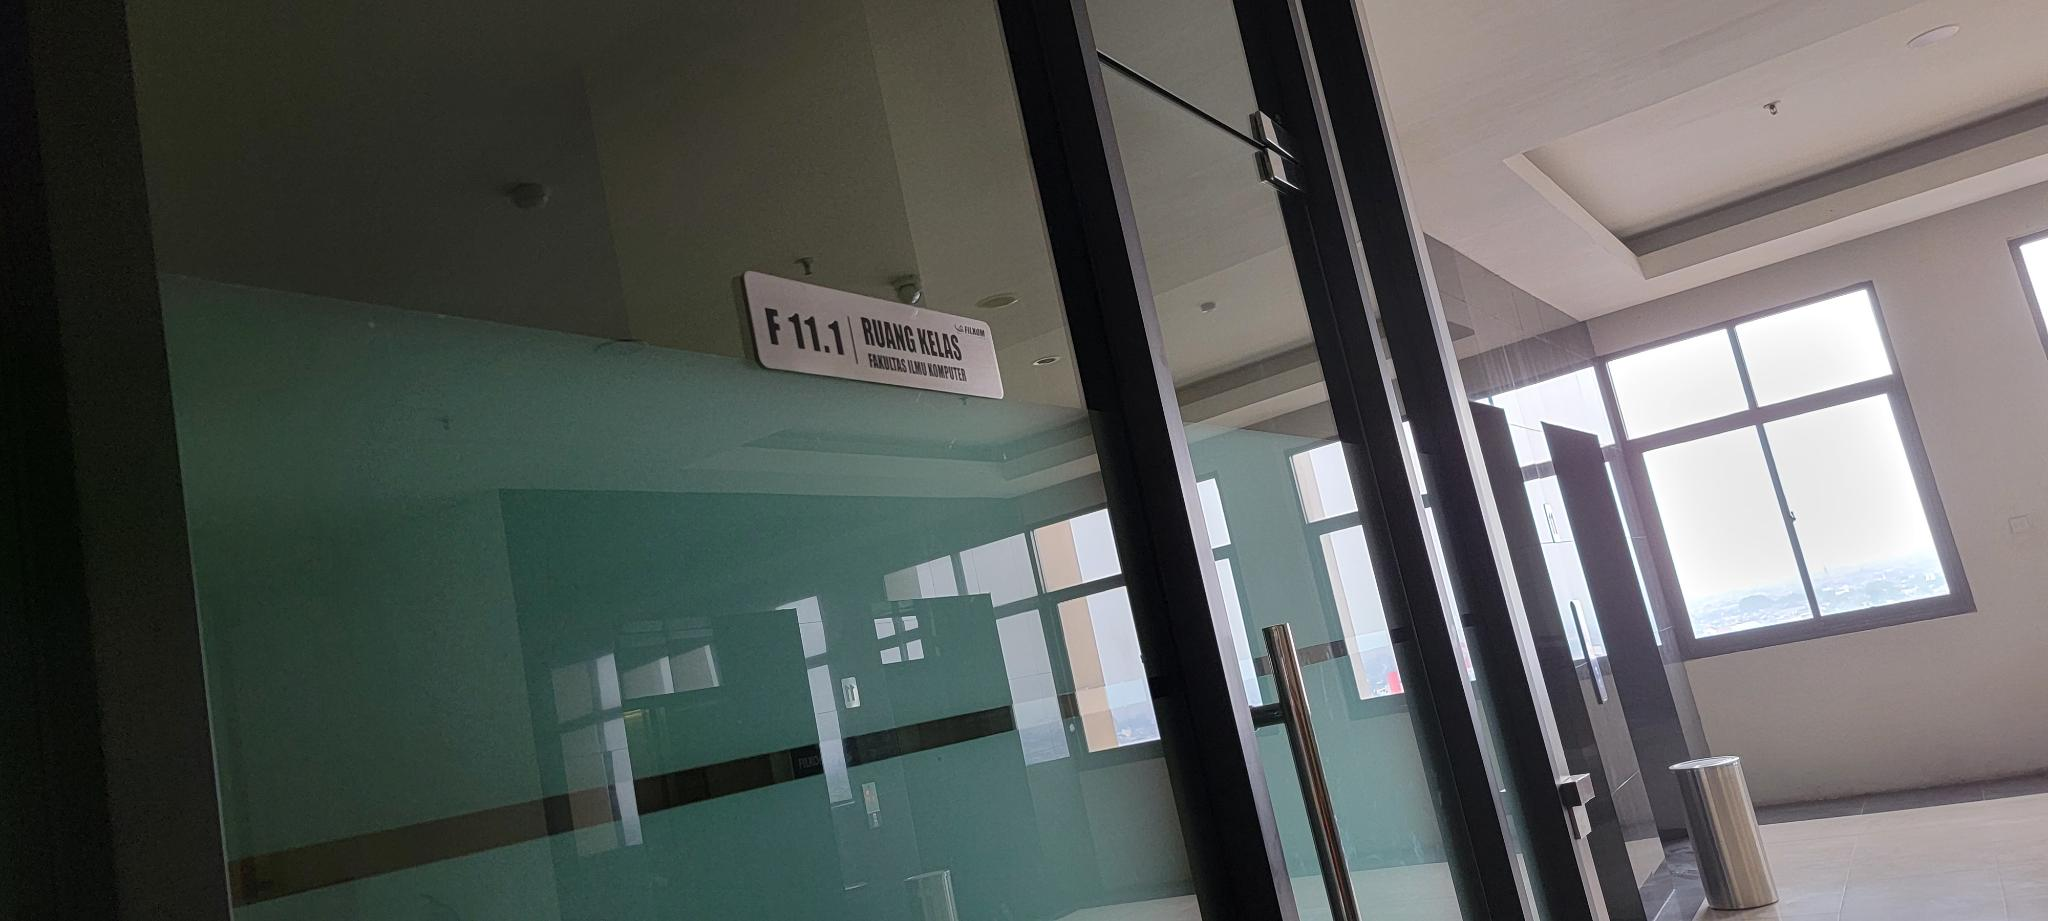plate: (741, 265, 1008, 405)
